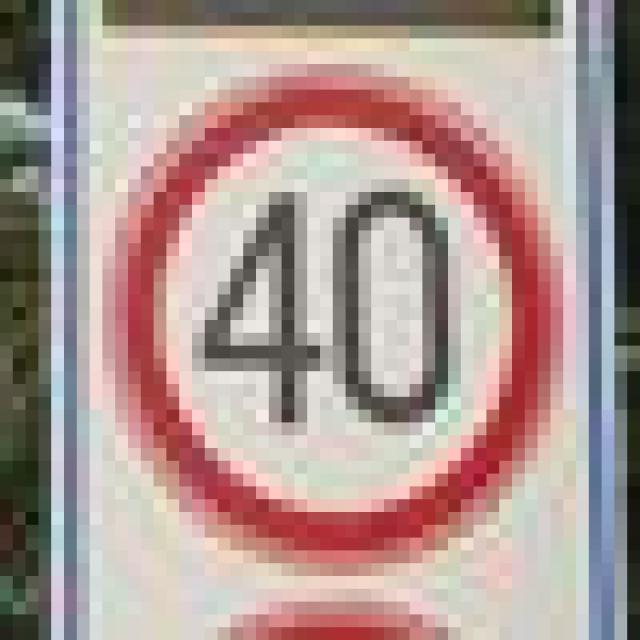SPEED_LIMIT_40: (102, 51, 564, 563)
